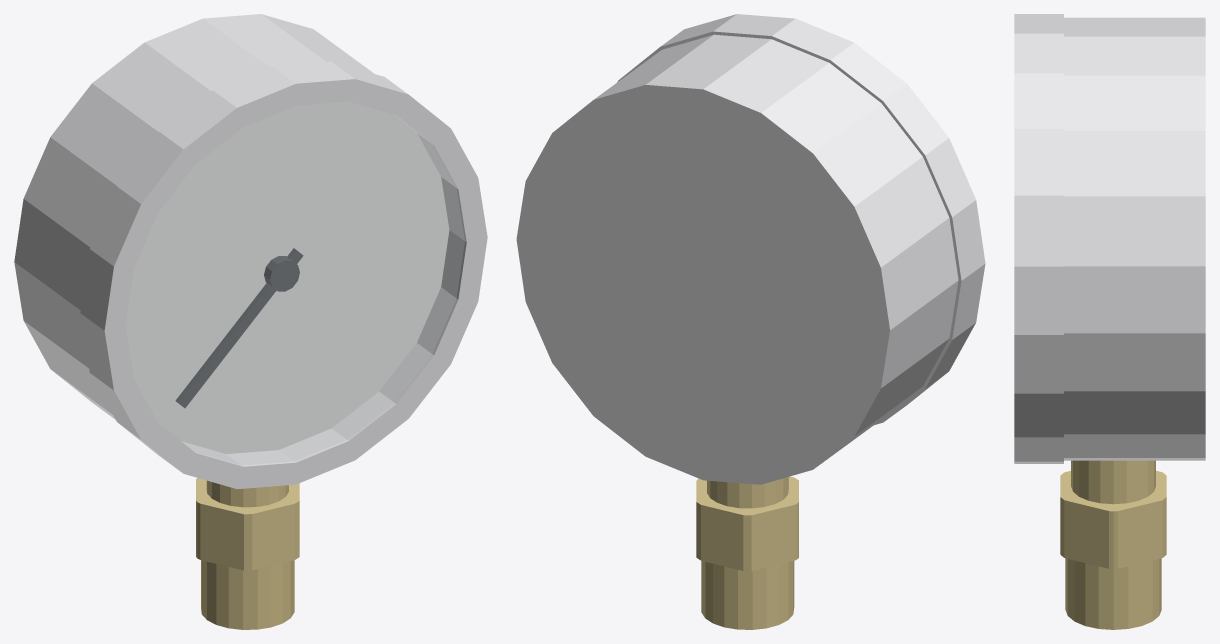
Rendered from gauge-p.glb.
The picture shows the model from 3 angles, left to right: view 1: azimuth 30°, elevation 25°; view 2: azimuth 150°, elevation 25°; view 3: azimuth 270°, elevation 25°; orthographic projection. The views are drawn at different scales.
Visible parts, largest first — view 1: body, port-1, pointer; view 2: body, port-1; view 3: body, port-1.
Boxes of the visible parts, x1,y1,x2,y2 form: body: [14, 14, 487, 507]; port-1: [196, 478, 299, 629]; pointer: [175, 248, 303, 408]; body: [516, 14, 985, 508]; port-1: [696, 476, 798, 629]; body: [1014, 14, 1205, 504]; port-1: [1060, 470, 1166, 629].
Size of what is drawn, in the model's own units: 0.064 by 0.0897 by 0.027.
